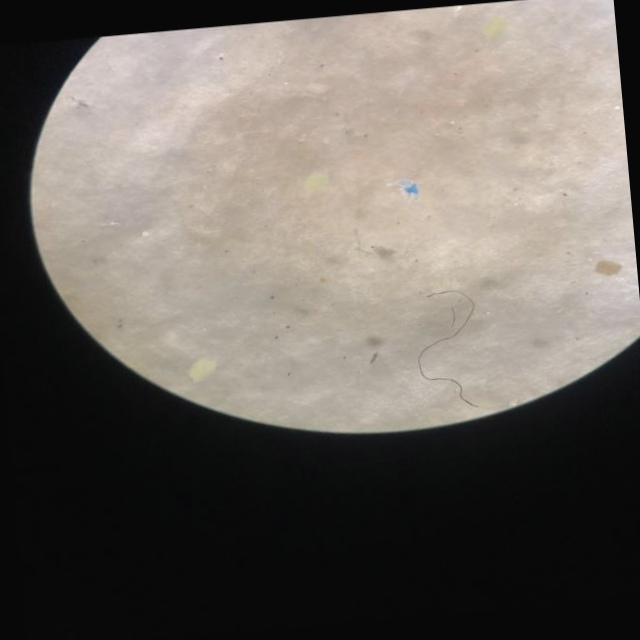fiber: (417, 291, 479, 407), (450, 309, 458, 325)
film: (399, 181, 418, 193)
fragment: (594, 260, 620, 276)
pellet: (142, 232, 148, 235)
